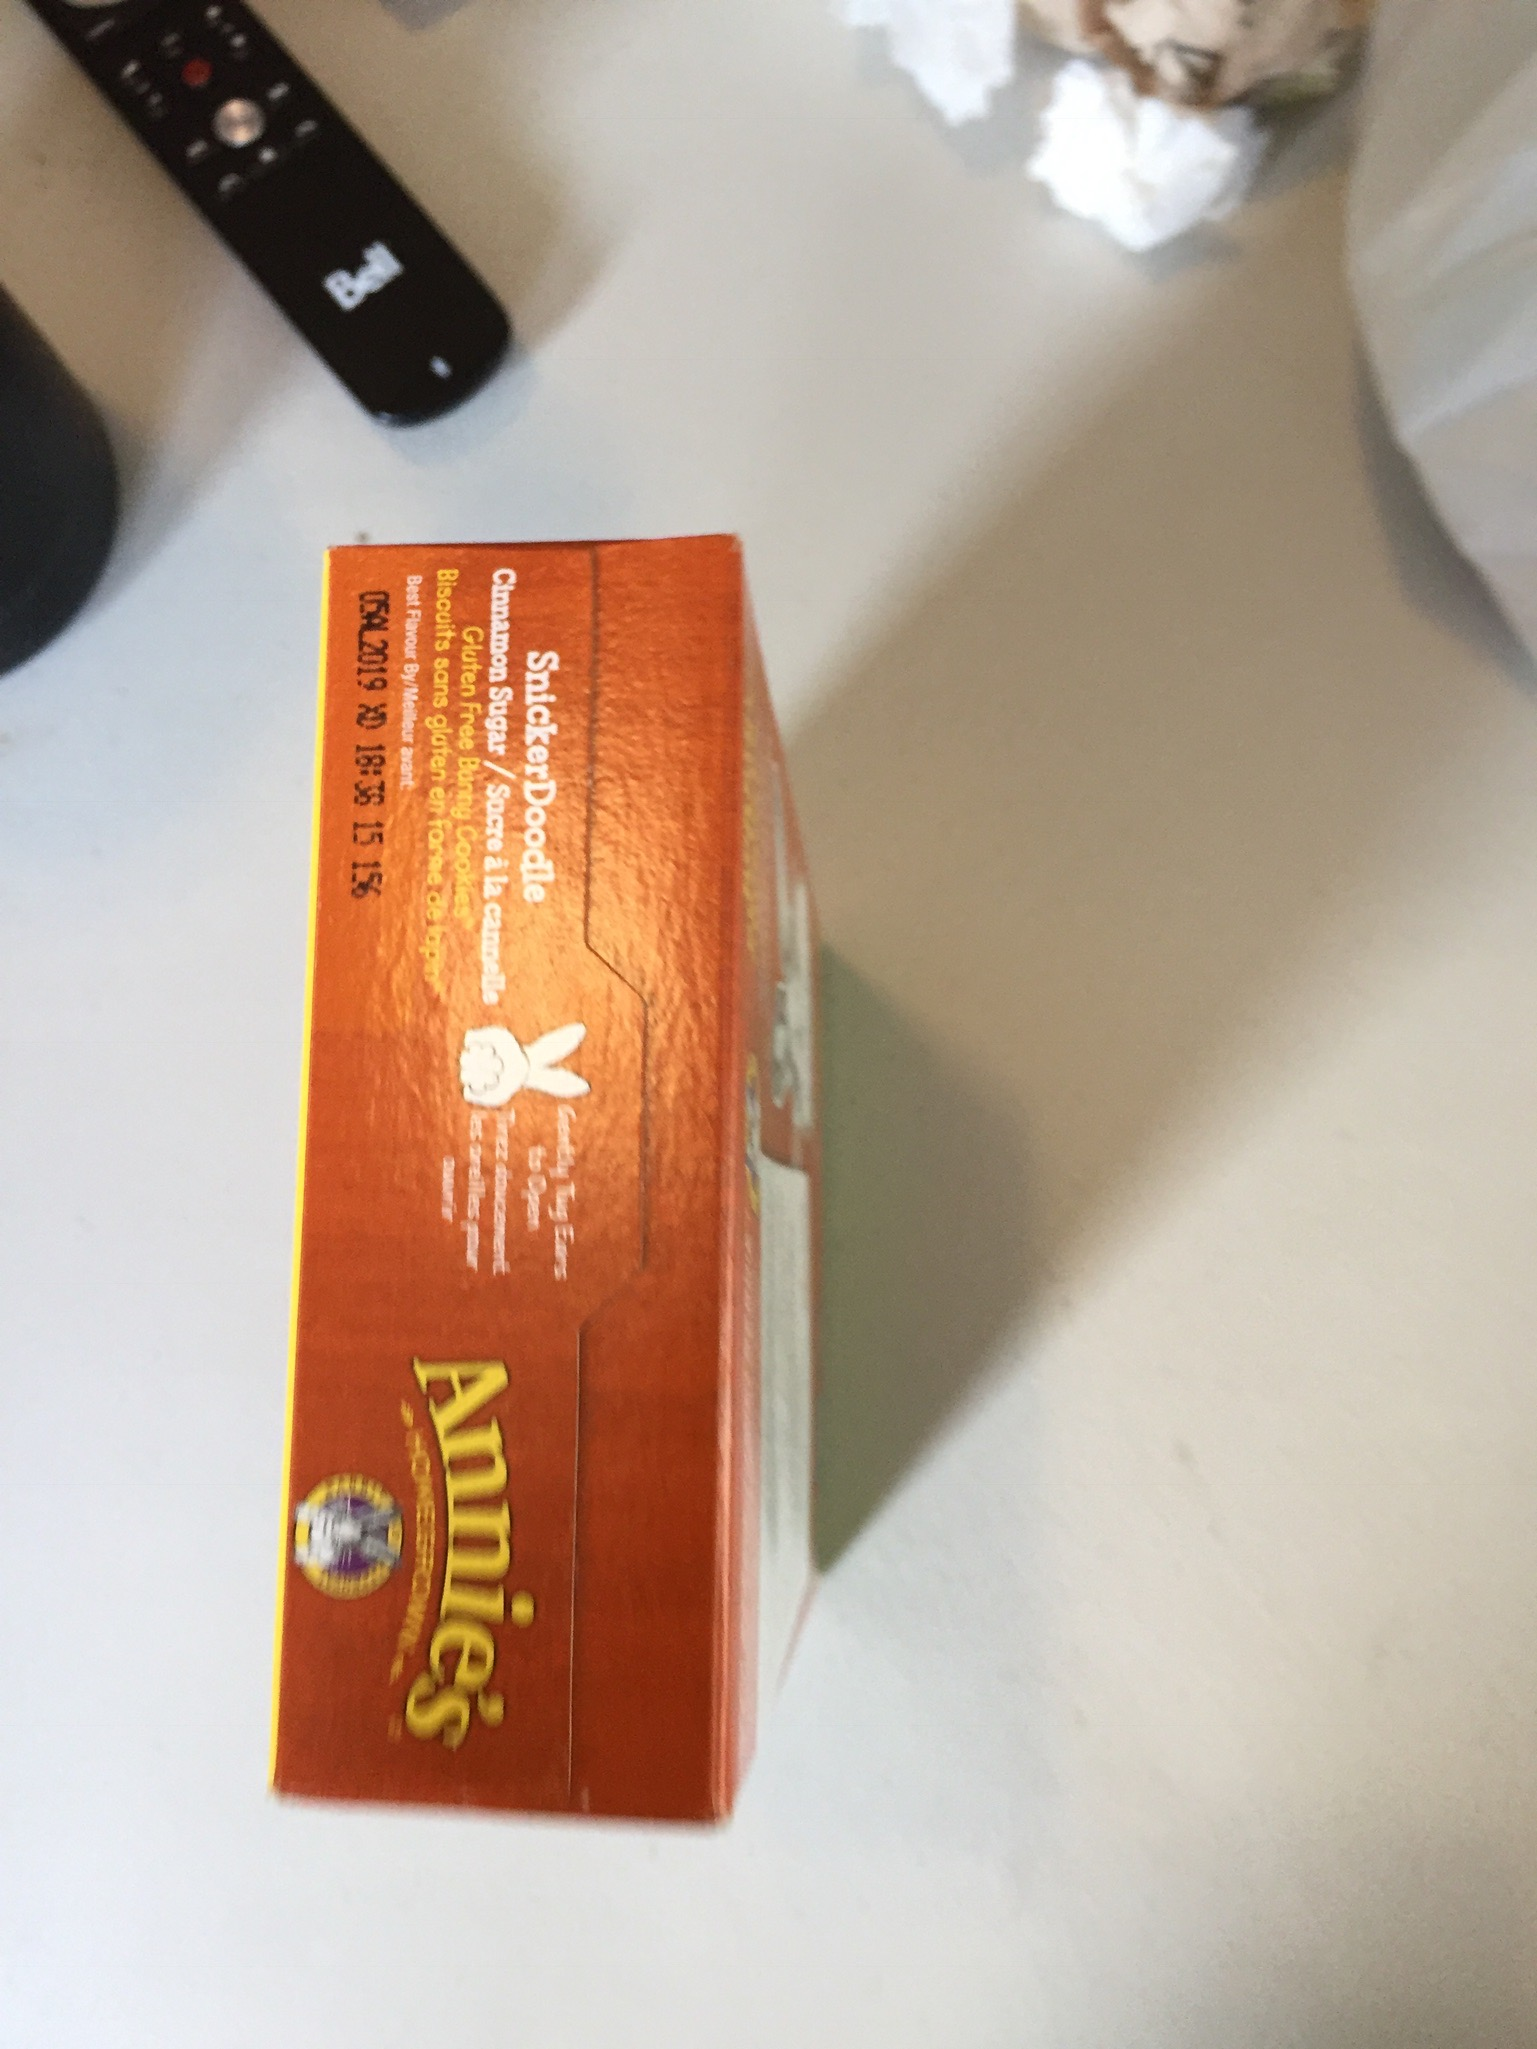annies_snickerdoodle_cinnamon_sugar: (333, 555, 765, 1775)
